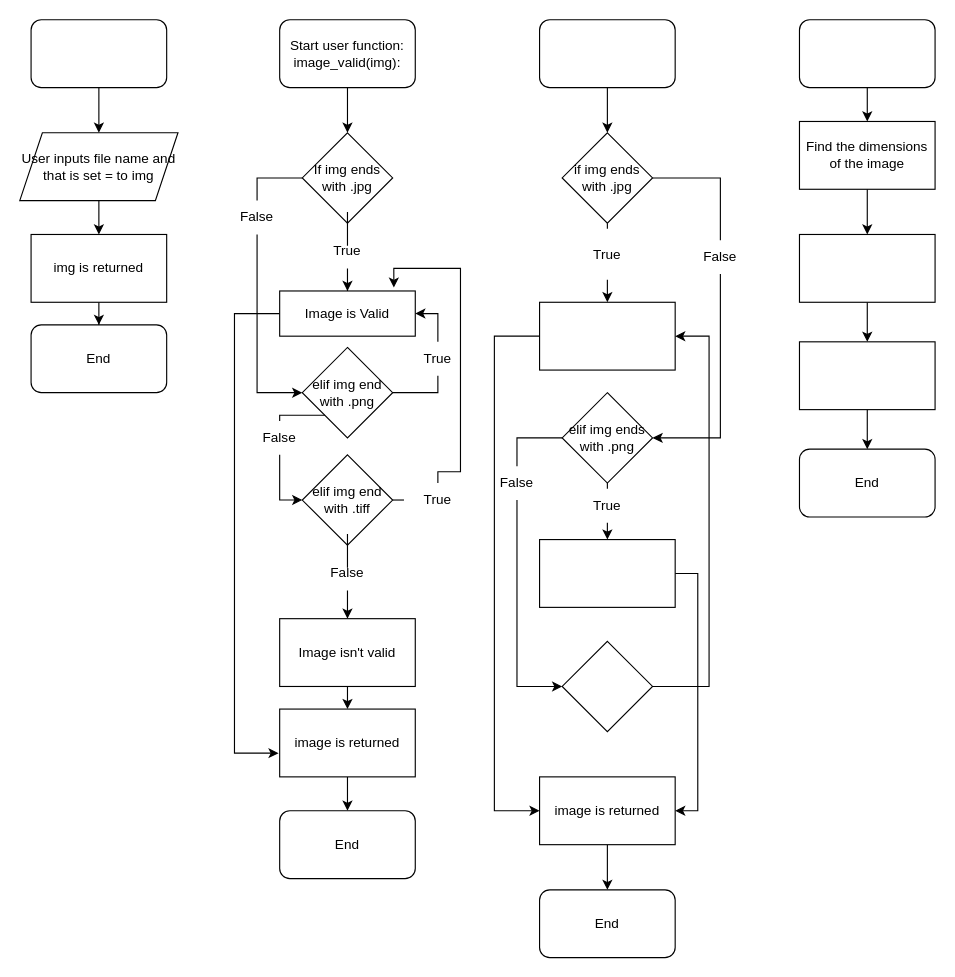
Image size: 955x977. Some labels were removed from this diagram. The shapes that lost their labels are listed below. From the top down, each one's box as (x1, y1, x2, y2) in pixels, then its label:
(30, 19, 167, 88): Start user function: img_input():
(538, 19, 675, 88): Start user function: image_tester(img):
(798, 19, 935, 88): Start user function: dim(image):
(798, 233, 935, 302): Computer prints dimensions of the image
(538, 301, 675, 370): image file is read and set = to image
(798, 341, 935, 410): Dimensions is returned
(538, 538, 675, 607): image file is read and set = to image and the file is turned into uint
(561, 640, 653, 732): elif img ends with .tiff
